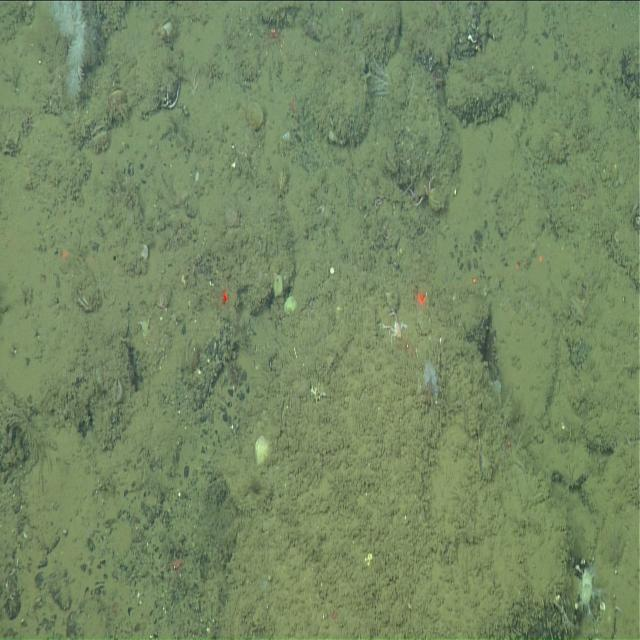Brittle Star: (415, 168, 442, 208)
Not Brittle Star: (48, 2, 103, 110), (574, 560, 606, 620), (256, 20, 288, 61), (102, 78, 130, 123), (379, 306, 408, 345), (182, 331, 203, 372), (243, 97, 265, 131), (90, 118, 110, 150), (275, 160, 289, 190), (272, 273, 285, 299)
